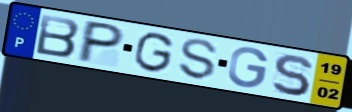B: (34, 13, 82, 59)
G: (132, 31, 177, 75), (226, 46, 271, 89)
P: (74, 19, 128, 65)
S: (270, 53, 314, 97), (178, 38, 220, 82)
